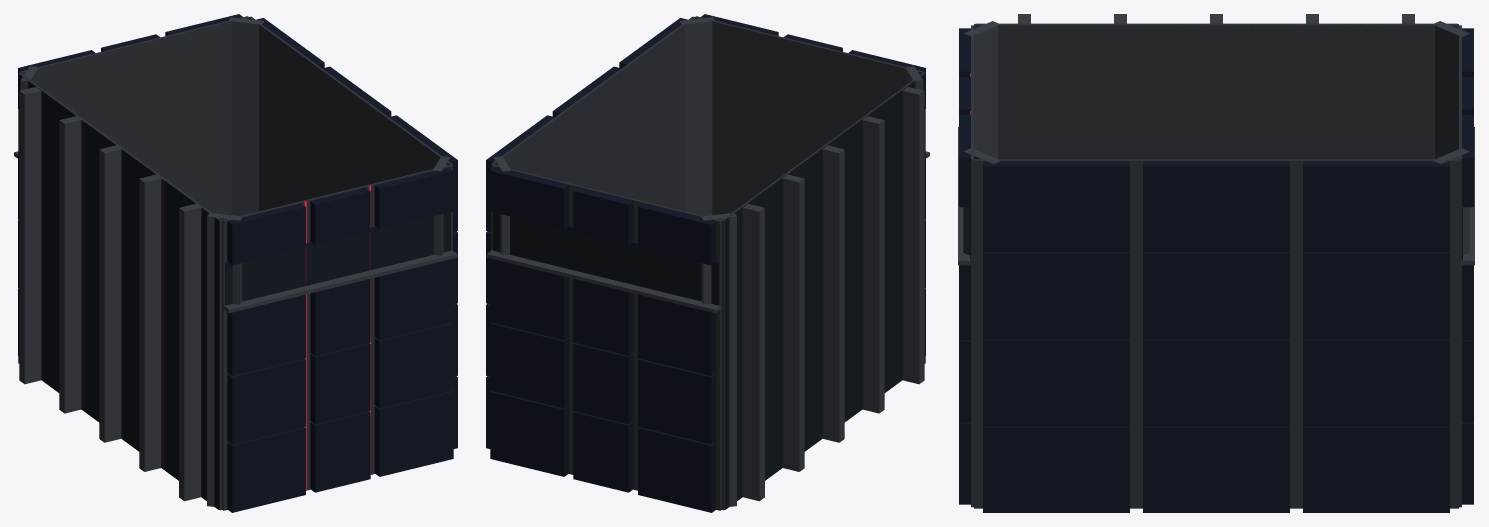
Rendered from hq_shaft_a_r.gltf.
The picture shows the model from 3 angles, left to right: view 1: azimuth 30°, elevation 25°; view 2: azimuth 150°, elevation 25°; view 3: azimuth 270°, elevation 25°; orthographic projection. The views are drawn at different scales.
Visible parts, largest first — view 1: hull, panel, fin, facade, crimson; view 2: hull, panel, fin, facade; view 3: hull, panel, fin, facade.
Boxes of the visible parts, bbox=[...] form: hull: bbox=[18, 14, 457, 512]; panel: bbox=[18, 16, 452, 510]; fin: bbox=[14, 17, 457, 506]; facade: bbox=[18, 74, 450, 509]; crimson: bbox=[83, 121, 370, 490]; hull: bbox=[486, 14, 925, 512]; panel: bbox=[491, 16, 925, 510]; fin: bbox=[486, 17, 929, 506]; facade: bbox=[493, 73, 925, 509]; hull: bbox=[959, 28, 1473, 512]; panel: bbox=[971, 24, 1461, 508]; fin: bbox=[958, 14, 1474, 265]; facade: bbox=[970, 23, 1462, 260].
Size of the model in its own units: 22.45 by 24 by 32.3.
